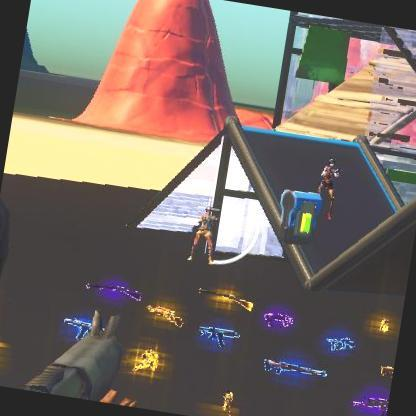person: (310, 161, 347, 226), (192, 205, 219, 263)
